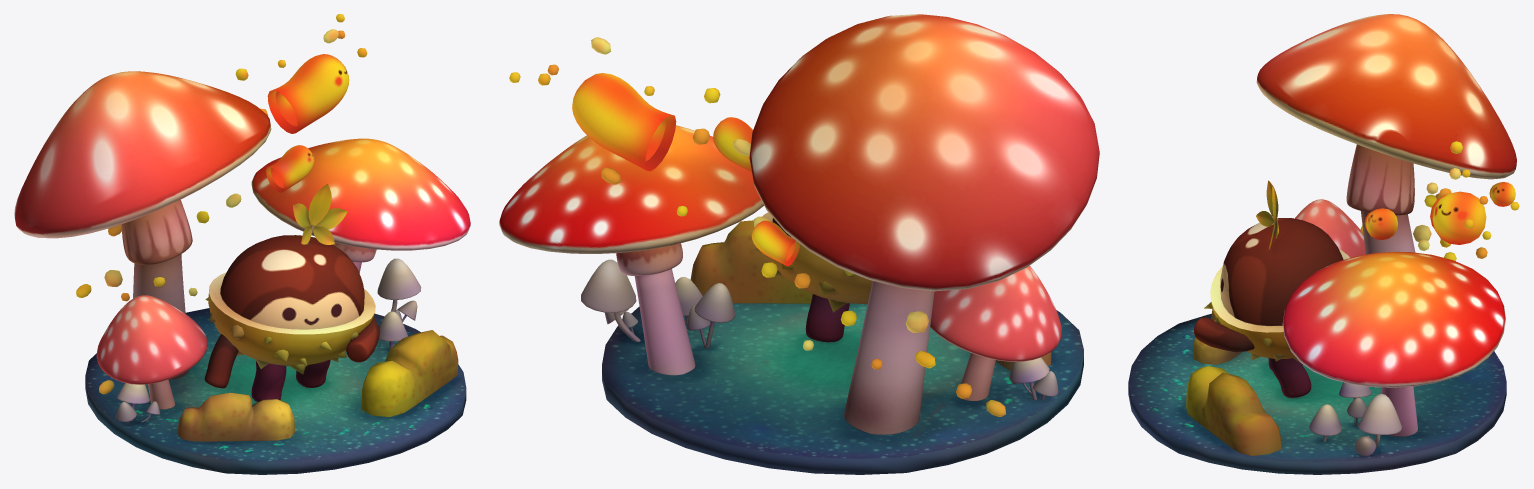
The model's file is little_chestnut.glb.
3 views of the same model, side by side, from view 1: azimuth 30°, elevation 25°; view 2: azimuth 150°, elevation 25°; view 3: azimuth 270°, elevation 25° (orthographic). The views are drawn at different scales.
Parts seen in each view (by area): view 1: Object_4, Object_3, Object_5, Object_2; view 2: Object_4, Object_3, Object_2, Object_5; view 3: Object_4, Object_3, Object_5, Object_2.
Part boxes in pixels (<box>): Object_4: <box>14,71,470,409</box>; Object_3: <box>85,184,466,474</box>; Object_5: <box>115,258,458,441</box>; Object_2: <box>76,14,367,394</box>; Object_4: <box>499,14,1099,434</box>; Object_3: <box>602,212,1083,474</box>; Object_2: <box>509,37,1005,416</box>; Object_5: <box>581,220,1058,400</box>; Object_4: <box>1256,14,1516,436</box>; Object_3: <box>1128,180,1506,474</box>; Object_5: <box>1186,309,1401,455</box>; Object_2: <box>1360,141,1519,260</box>.
Size of the model in its own units: 6.58 by 4.65 by 5.13.
2 materials, 2 textured.
